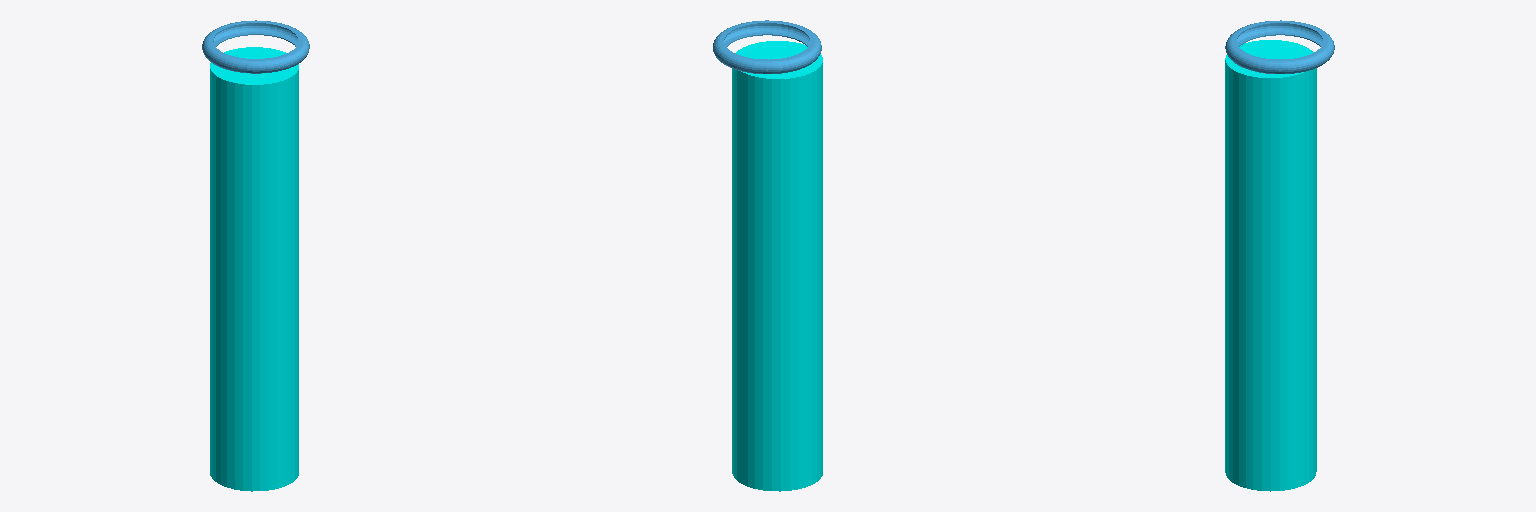
robot.urdf — base:
<?xml version="1.0"?>

<robot name="base" xmlns:xacro="http://ros.org/wiki/xacro">
<link name="base_footprint">
<inertial>
         <mass value="0.000001" />
         <origin xyz="0 0 0.5" />
         <inertia ixx="0.0001" ixy="0.0" ixz="0.0"
            iyy="0.0001" iyz="0.0"
            izz="0.0001" />
         </inertial>
  <visual>
        <origin xyz="0 0 0.5" rpy="0 0 0" />
        <geometry>
          <cylinder radius= "0.1" length="1"/>
        </geometry> 
        <material name="Cyan">
       <color rgba="0 1.0 1.0 1.0"/>
     </material>       
      </visual>  
  <collision>
        <origin xyz="0 0 0.5" rpy="0 0 0" />
        <geometry>
          <cylinder radius= "0.1" length="1"/>
        </geometry>
      </collision> 
       
</link>

<link name="wheel">
<inertial>
         <mass value="0.000001" />
         <origin xyz="0 0 0.5" />
         <inertia ixx="0.0001" ixy="0.0" ixz="0.0"
            iyy="0.0001" iyz="0.0"
            izz="0.0001" />
         </inertial>
  <visual>
        <origin xyz="-0.105 -0.1 0.05" rpy="0 1.57 0" />
        <geometry>
                 <mesh filename="package://rbt_description/meshes/p.STL" scale="0.01 0.01 0.01"/>
          
        </geometry> 
              
      </visual>  
  <collision>
        <origin xyz="0 0 0.5" rpy="0 0 0" />
        <geometry>
          <cylinder radius= "0.1" length="1"/>
        </geometry>
      </collision> 
       
</link>
<joint name="joint" type="revolute">
         <origin xyz="0 0 1.00" rpy="0 0 0" />
          <parent link="base_footprint" />
          <child link="wheel" />
          <axis xyz="1 0 0" />
          <limit effort="1000.0" lower="-0.5" upper="0.548" velocity="0.5"/>
      </joint>
</robot>

--- Render facts (derived) ---
Views: 3 orthographic renders of the robot side by side, from view 1: azimuth 30°, elevation 25°; view 2: azimuth 150°, elevation 25°; view 3: azimuth 270°, elevation 25°.
Robot: base — 2 links, 1 joints (1 revolute); root link base_footprint; default pose: every joint at zero.
Links seen in each view (by area): view 1: base_footprint, wheel; view 2: base_footprint, wheel; view 3: base_footprint, wheel.
Link boxes in pixels (x1,y1,x2,y2): base_footprint: (210, 47, 298, 491); wheel: (202, 20, 309, 73); base_footprint: (732, 41, 822, 491); wheel: (713, 20, 821, 73); base_footprint: (1225, 40, 1316, 491); wheel: (1225, 20, 1334, 73).
Bounding box of the posed robot: 0.2399 × 0.2398 × 1.05 m (x, y, z).
1 mesh visuals loaded from 1 distinct referenced files (1 binary STL).